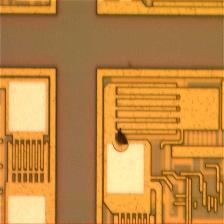PARTICLE: (113, 127, 133, 156)
